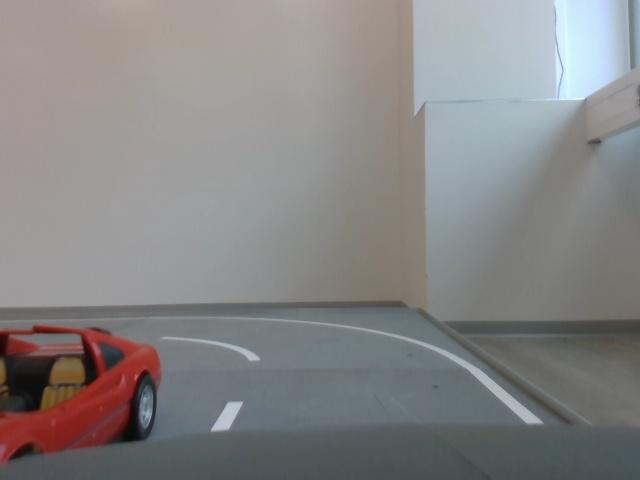car: (1, 307, 185, 480)
